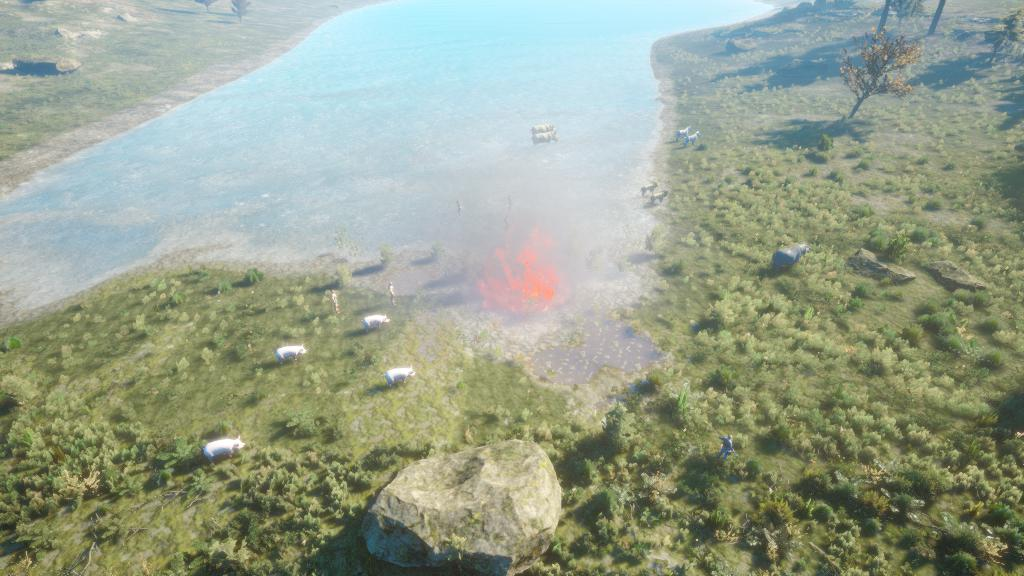Fire: (483, 245, 564, 314)
hippopotamus: (767, 237, 818, 278)
human: (712, 431, 743, 472), (320, 281, 348, 324), (380, 277, 405, 310)
pig: (193, 432, 253, 467), (373, 362, 424, 391), (269, 343, 311, 369), (359, 311, 398, 336)
rhinoceros: (518, 120, 570, 158)
smoke: (427, 137, 620, 321)
